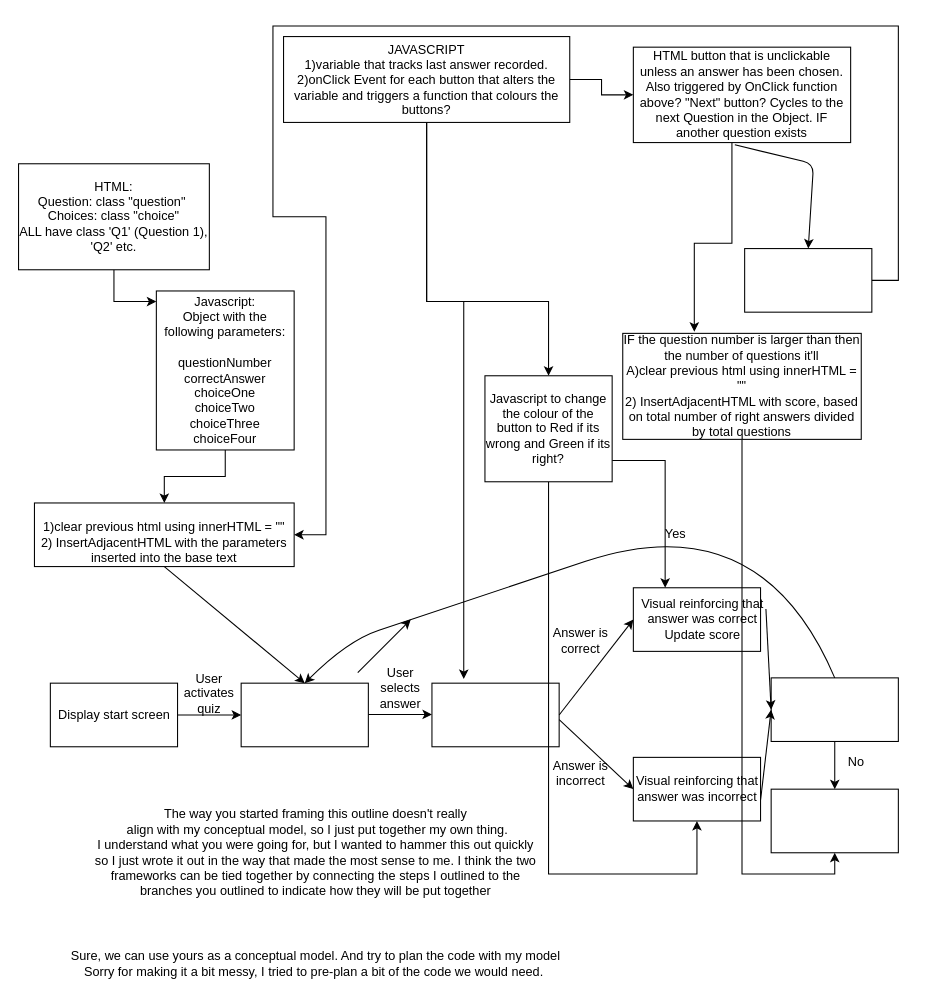
Image size: 925x999. Some labels were removed from this diagram. Each missing label, with the centre of its shape:
Answer is checked: [495,714]
Check if there are more questions: [834,709]
Display a question with multiple answers: [304,714]
Display end screen with a score: [834,820]
IF another question exists, plays the original function: [808,280]
